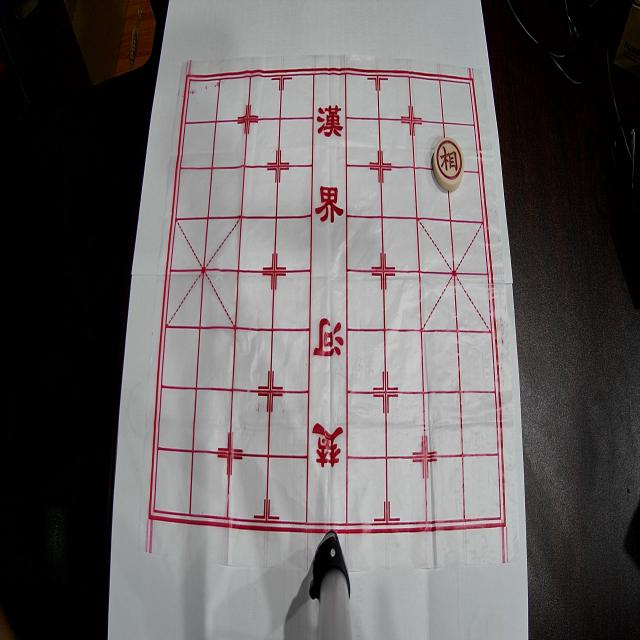red-elephant: (432, 138, 464, 192)
